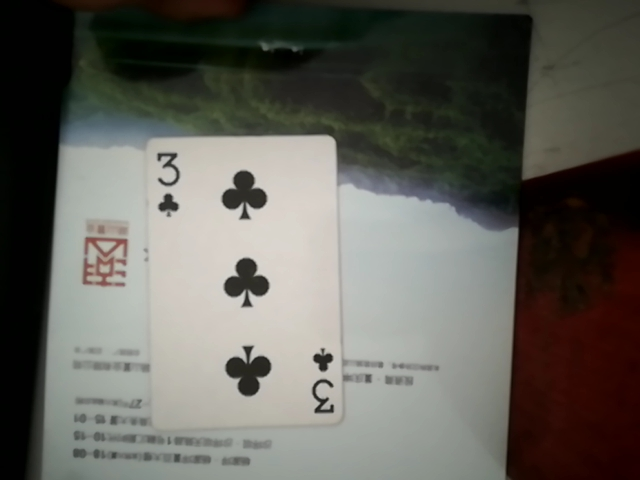mh 3: (137, 126, 341, 438)
